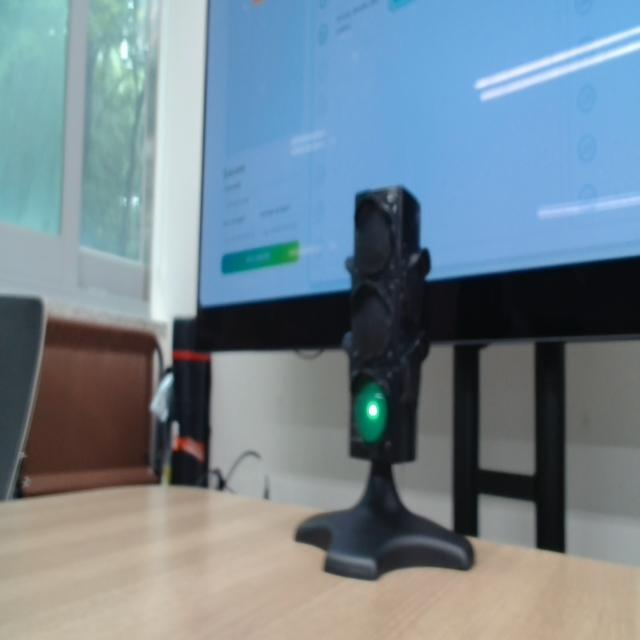green_light: (354, 382, 387, 445)
